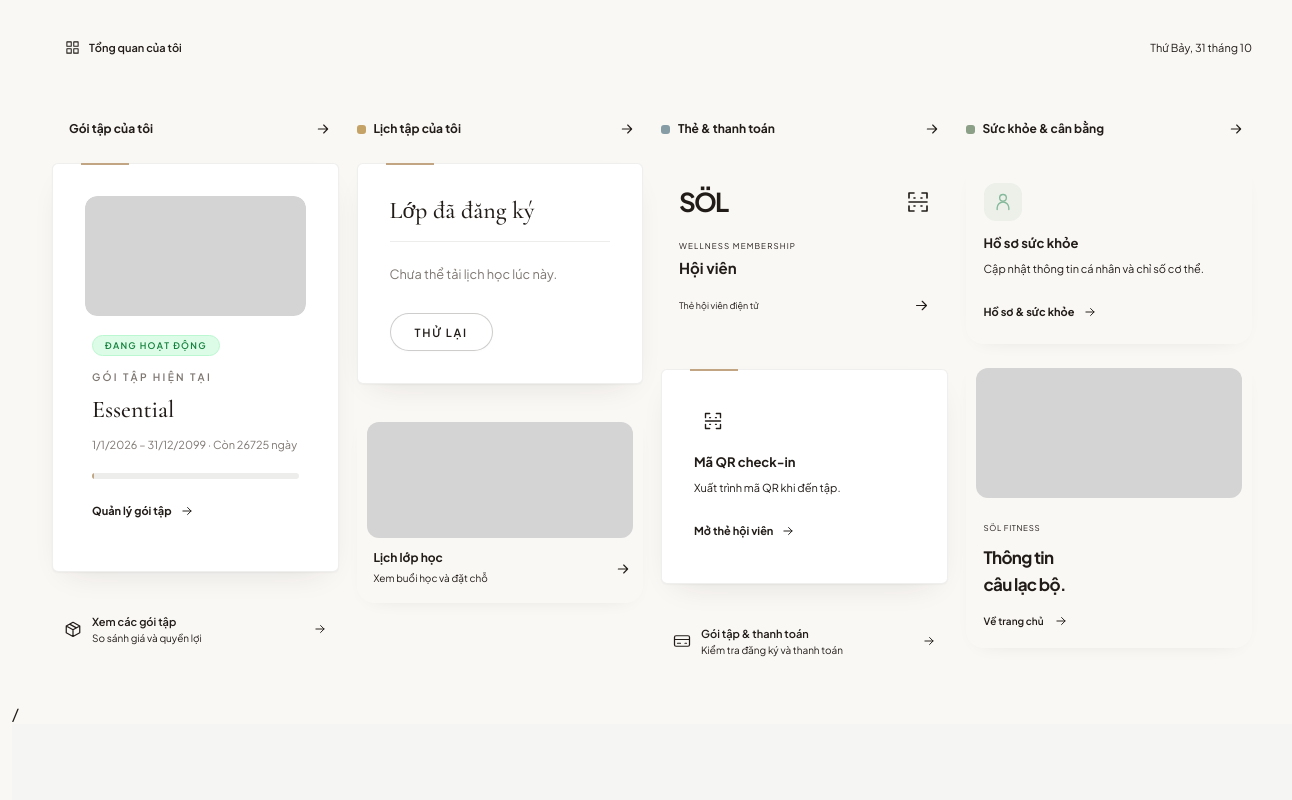
Test: SCRUM-85 dashboard › keeps membership when enrollment fails and retries only enrollment
Click the button "Thử lại": coordinates (441, 332) x1=390 y1=313 x2=493 y2=351
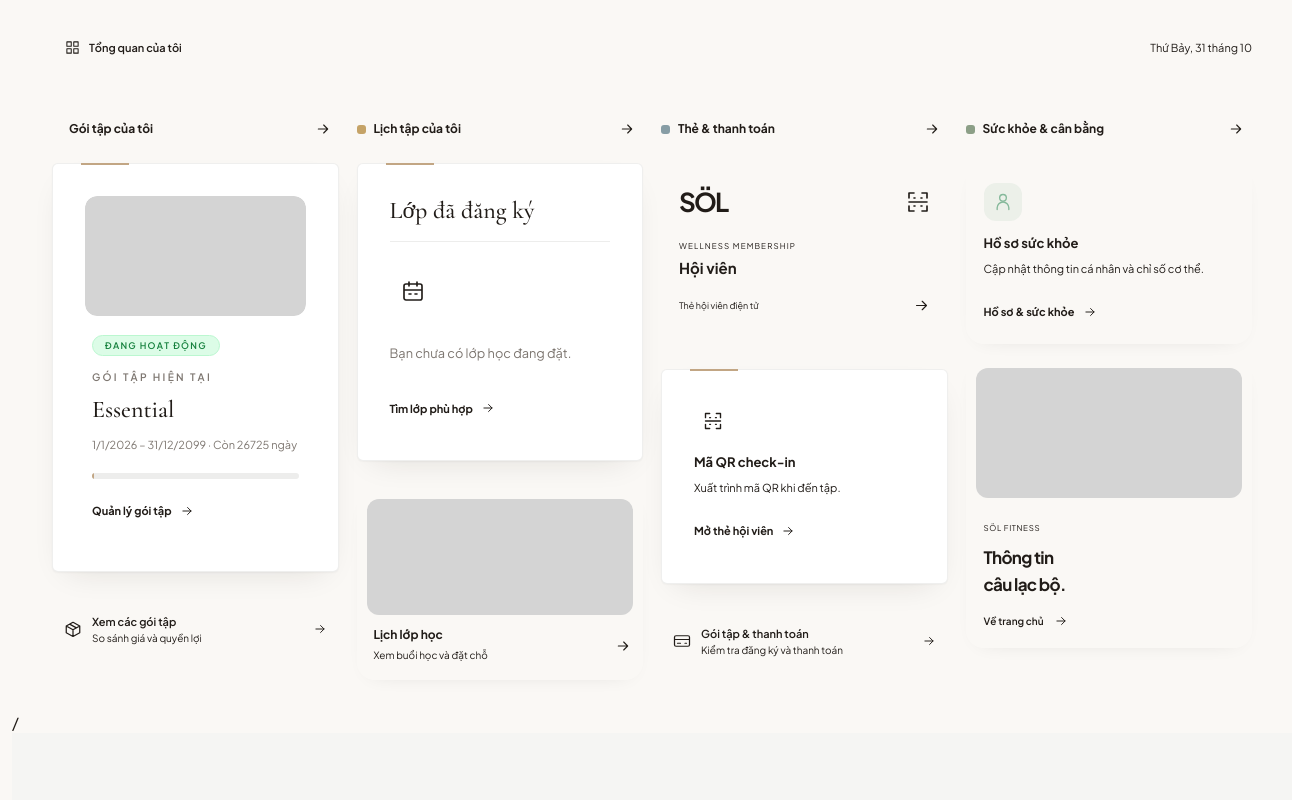
Now the text "Bạn chưa có lớp học đang đặt." is shown, box x1=390 y1=345 x2=572 y2=361
